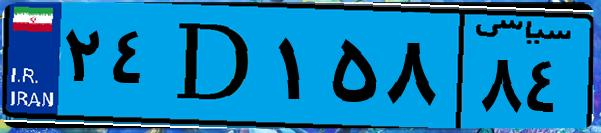1: (270, 28, 330, 110)
2: (57, 26, 110, 100)
4: (525, 38, 570, 115), (110, 28, 158, 98)
5: (330, 28, 385, 110)
8: (385, 28, 445, 110), (475, 38, 525, 113)
D: (158, 12, 270, 120)
